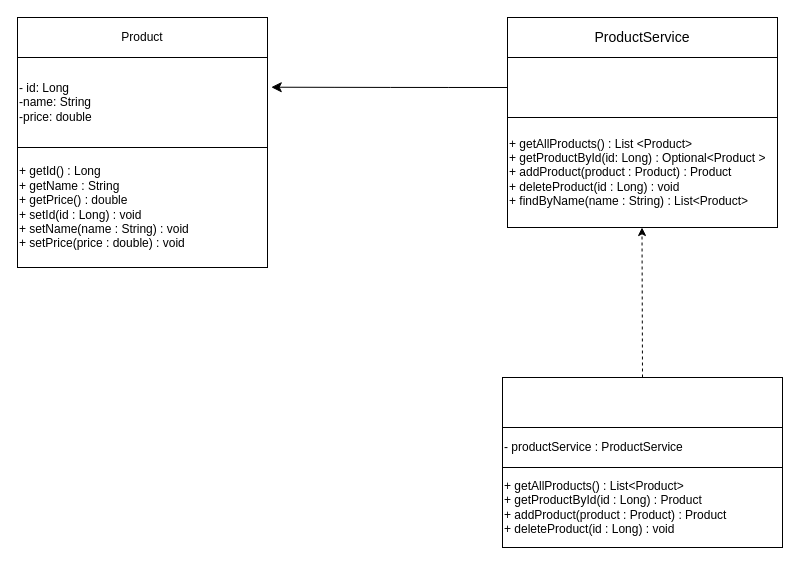
This 800x565 diagram has some shape labels left out. Each missing label, with the box of its shape:
- products : List<Product> - nextId : Long: (506, 56, 778, 118)
ProductControlle r: (502, 376, 782, 428)
